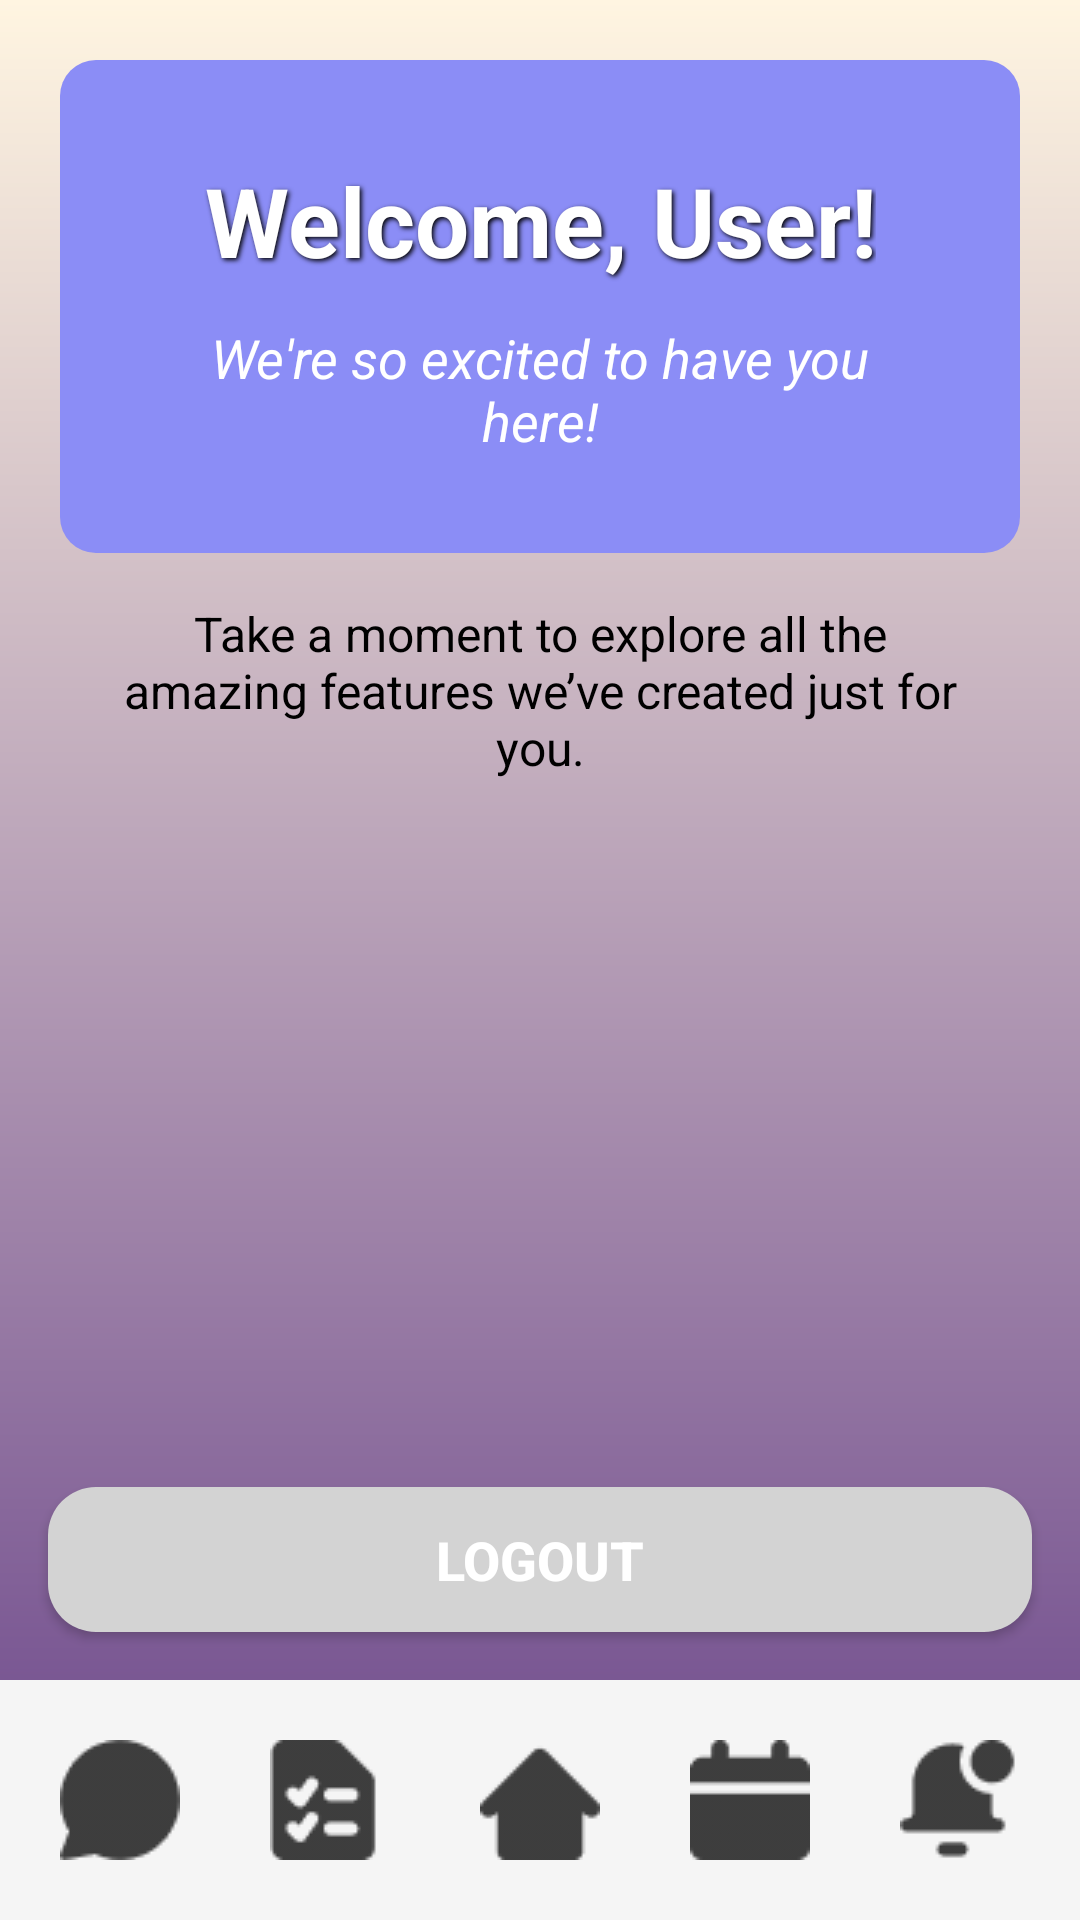

Icon click points for this 1080 × 1920 phone screenshot, format [x,y]:
chat: [120,1800]
home: [540,1804]
notifications: [957,1799]
task: [323,1800]
